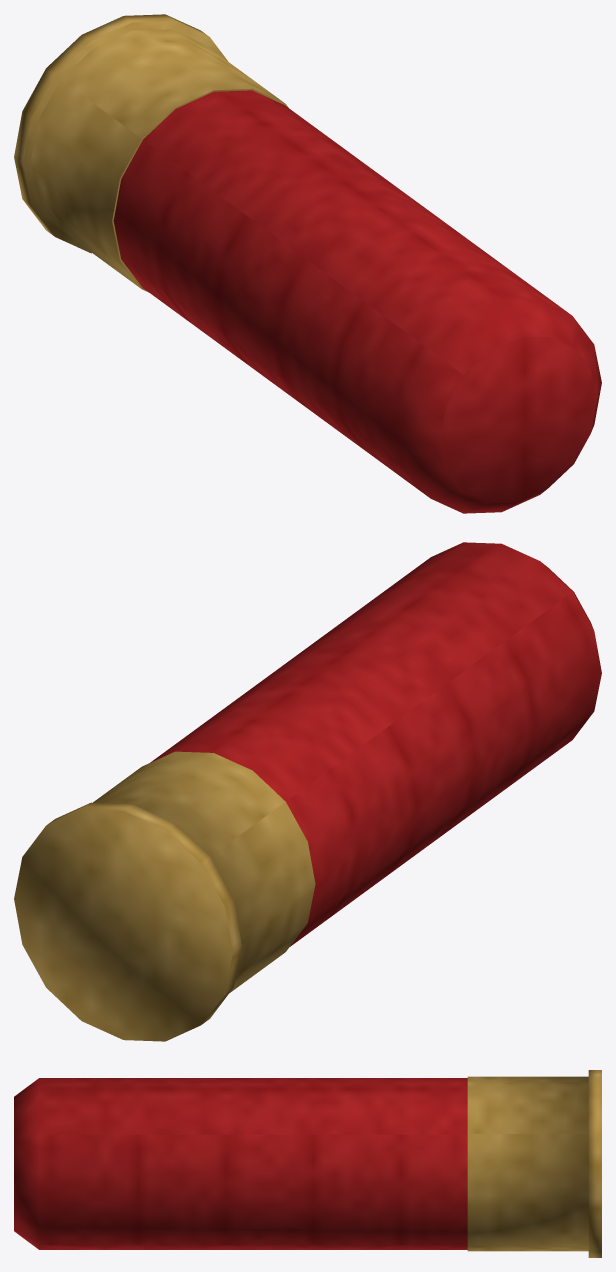
File: shell_12.glb
3 views of the same model, one above another, from view 1: azimuth 30°, elevation 25°; view 2: azimuth 150°, elevation 25°; view 3: azimuth 270°, elevation 25° (orthographic). The views are drawn at different scales.
Visible parts, largest first — view 1: shell_12; view 2: shell_12; view 3: shell_12.
Part boxes in pixels (bbox=[...]): shell_12: bbox=[14, 14, 601, 513]; shell_12: bbox=[14, 542, 601, 1041]; shell_12: bbox=[14, 1070, 601, 1257].
Bounding box in the file's own units: 0.0224 × 0.0224 × 0.07.
2 materials, 2 textured.
